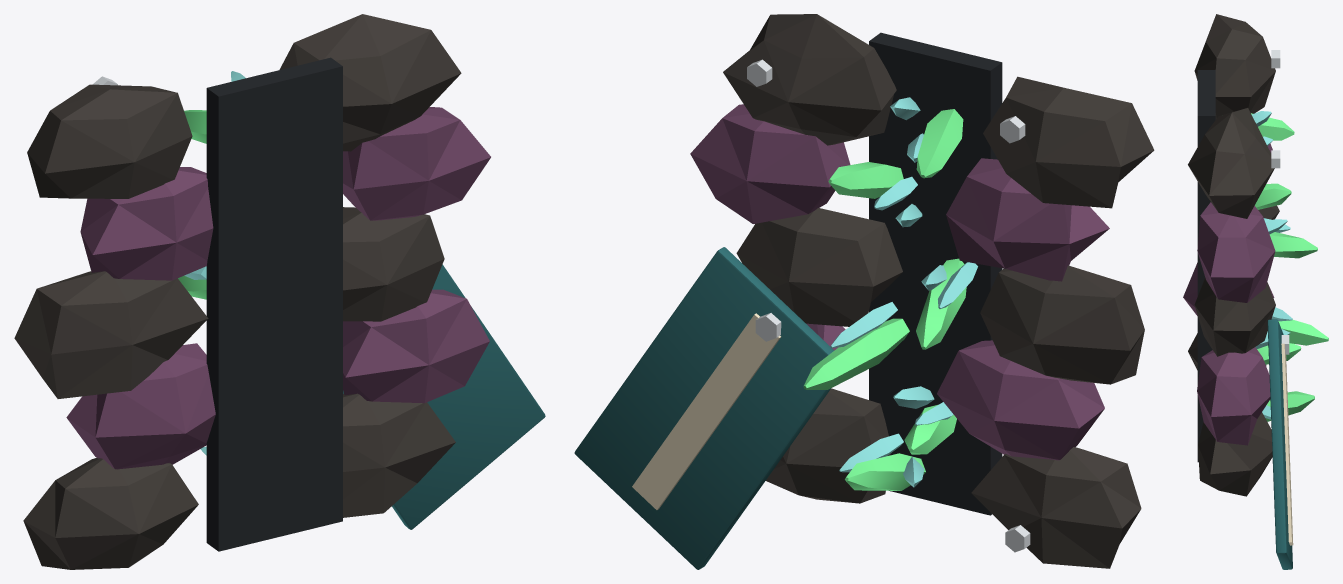
File: Kit_CrystalSeam.fbx
3 renders of one model, left to right at view 1: azimuth 30°, elevation 25°; view 2: azimuth 150°, elevation 25°; view 3: azimuth 270°, elevation 25°, orthographic. The views are drawn at different scales.
Visible parts, largest first — view 1: Rock, SeamGlow; view 2: Rock, SeamGlow; view 3: Rock, SeamGlow.
Part boxes in pixels (x1=…): Rock: x1=14, y1=14, x2=545, y2=569; SeamGlow: x1=178, y1=110, x2=206, y2=299; Rock: x1=574, y1=14, x2=1154, y2=569; SeamGlow: x1=803, y1=109, x2=966, y2=490; Rock: x1=1183, y1=14, x2=1293, y2=569; SeamGlow: x1=1251, y1=113, x2=1328, y2=421.
Size of the model in its own units: 5.29 by 5.18 by 1.6.
